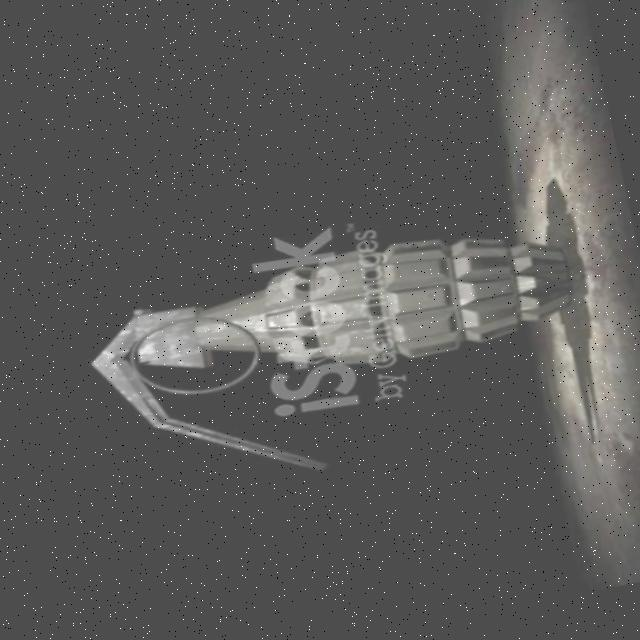grenade: (73, 194, 593, 521)
